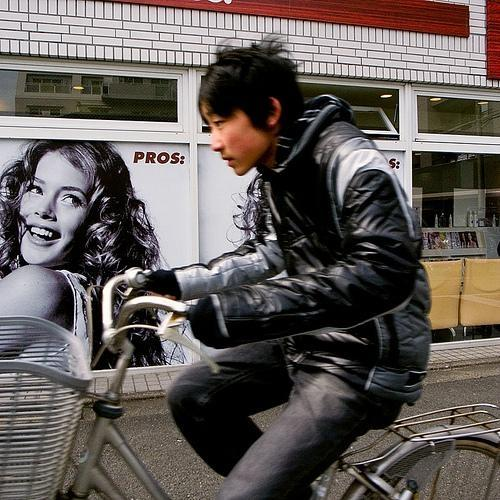bicycle: (3, 264, 499, 494)
